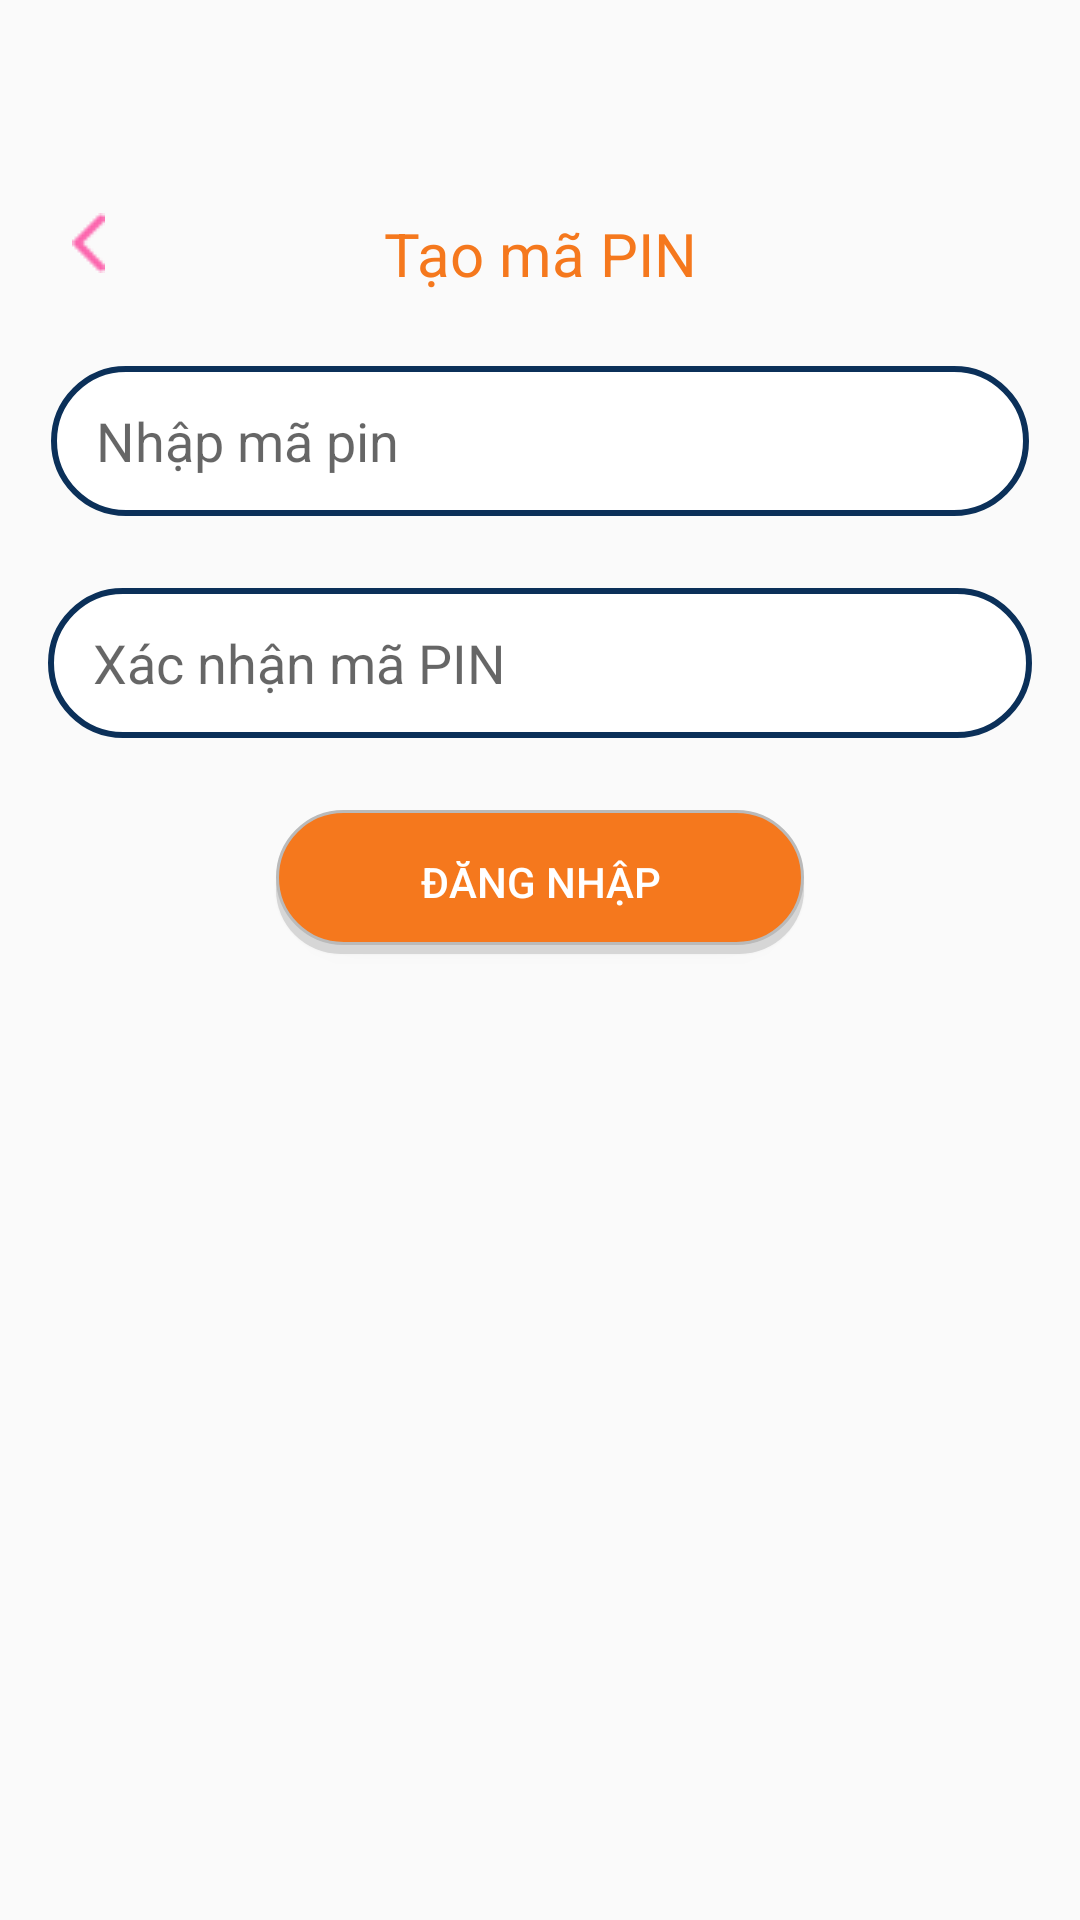

Icon click points for this 1080w x 1920h phone screenshot, format (x=x, y=y):
back: (x=88, y=243)
